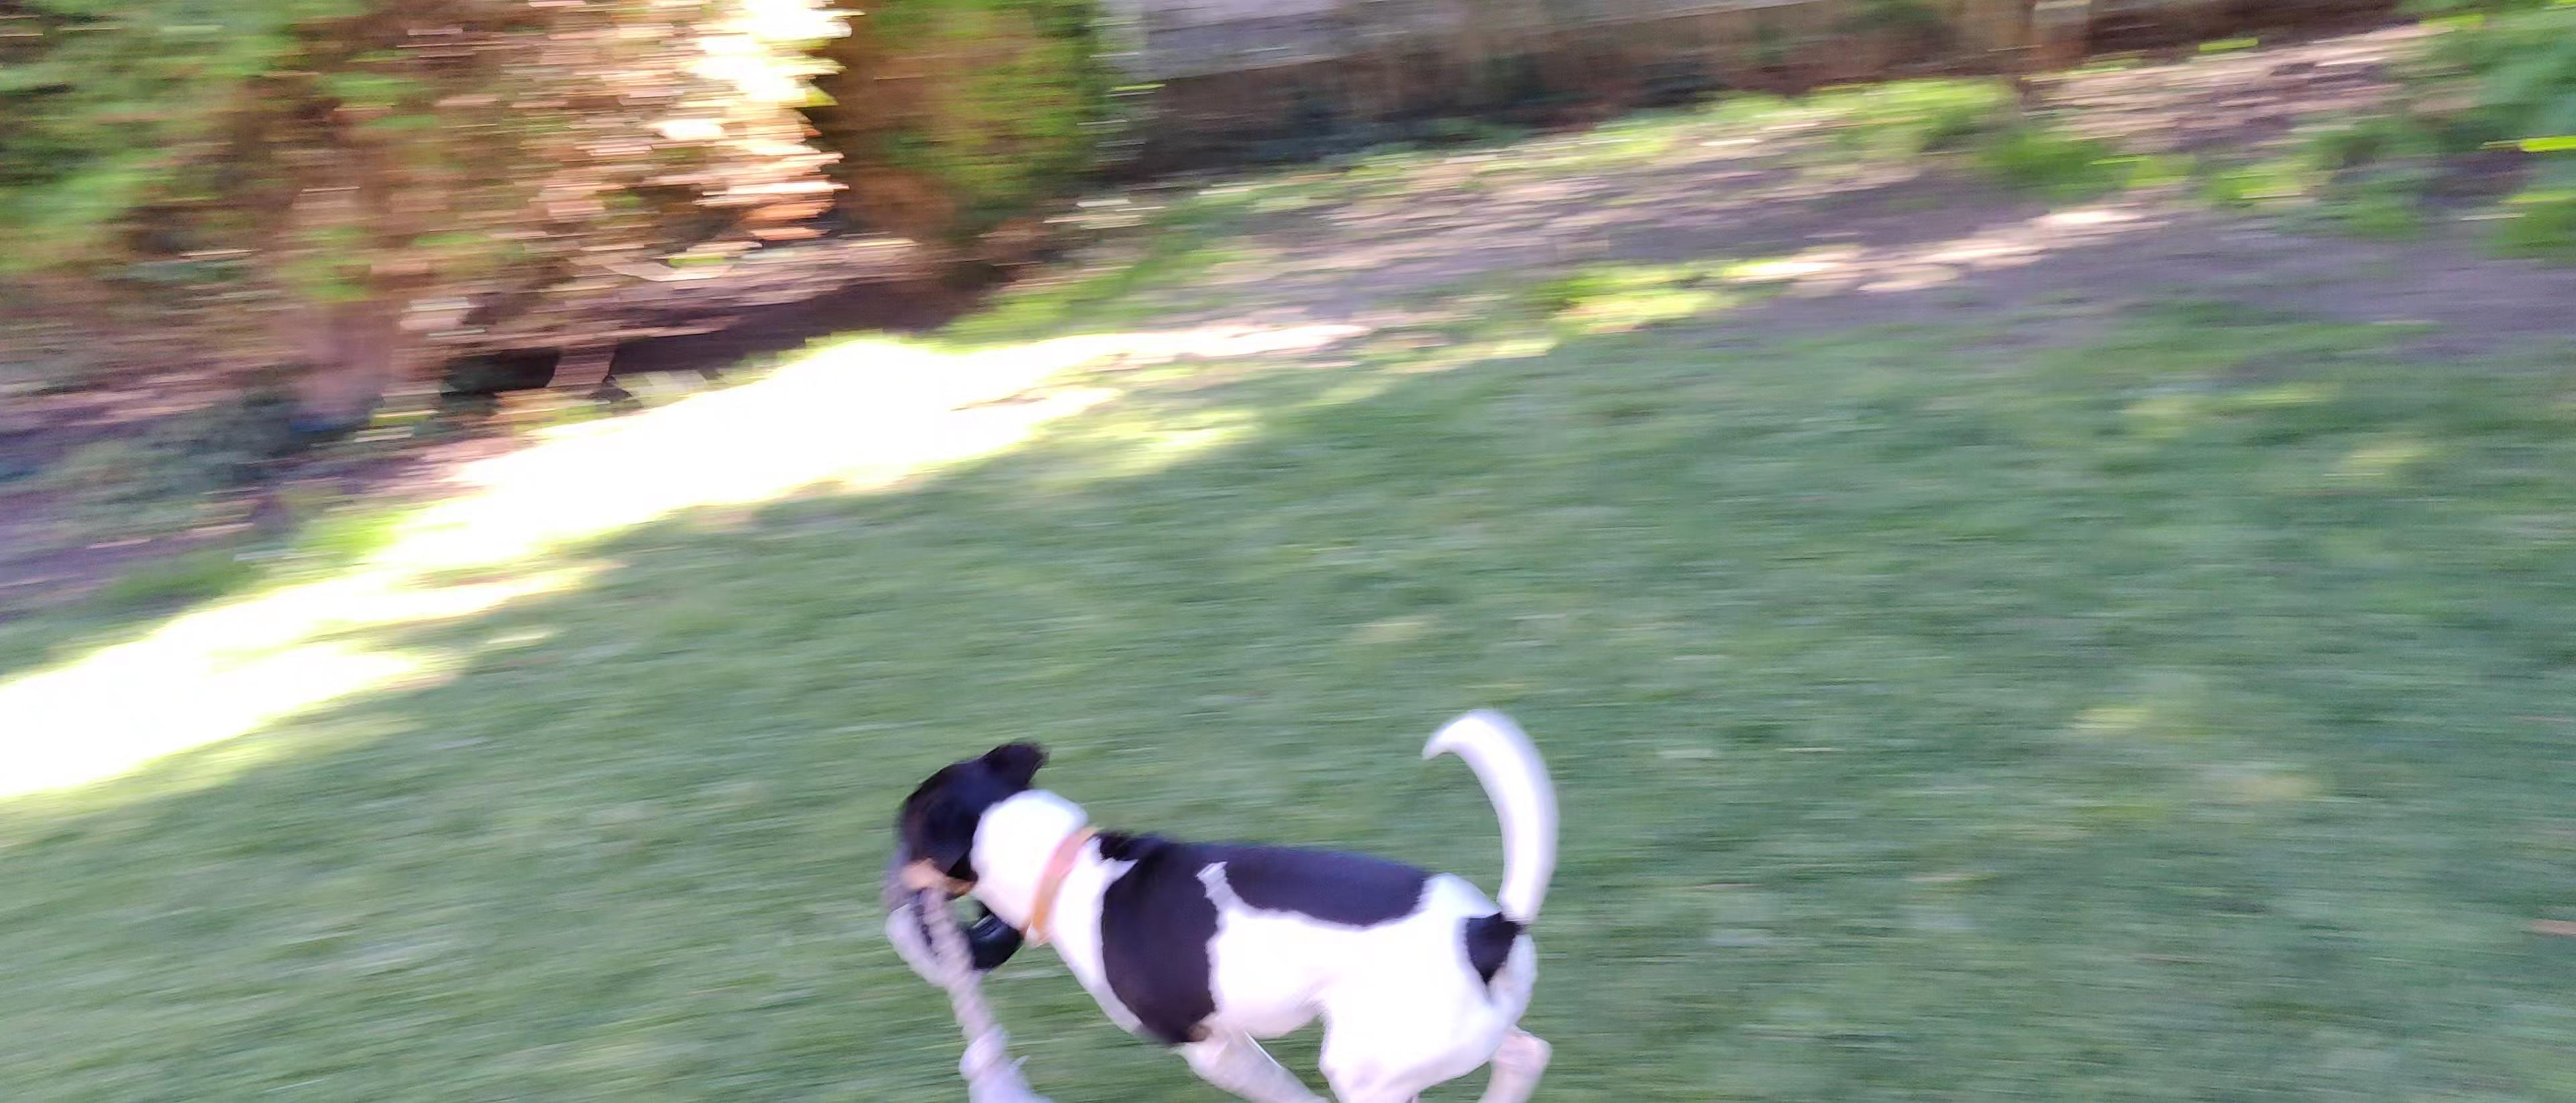Dog: (879, 697, 1566, 1103)
